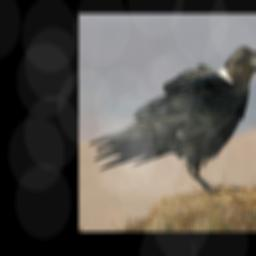Crow: (88, 44, 256, 201)
